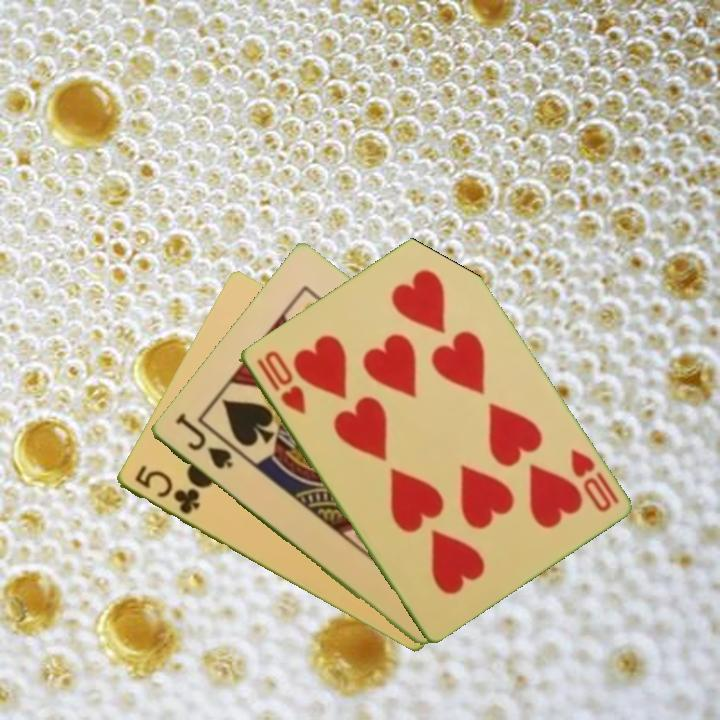10h: (252, 347, 308, 418), (566, 445, 622, 515)
5c: (130, 462, 203, 518)
Js: (171, 411, 236, 472)
